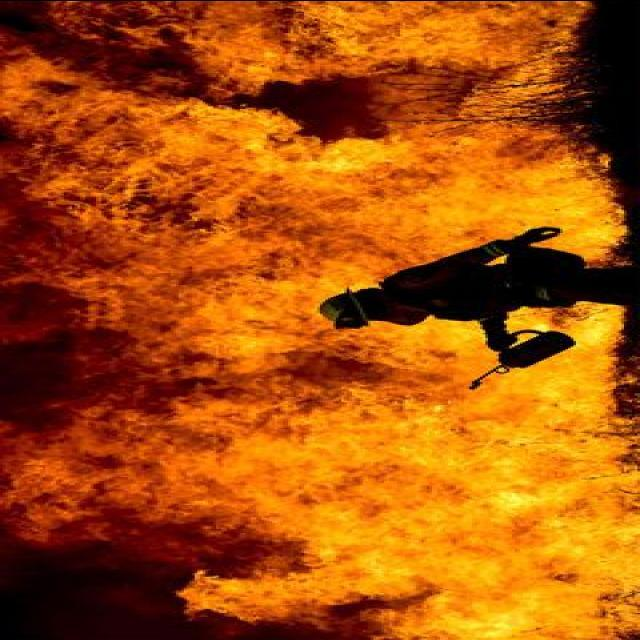Fire: (11, 0, 626, 632)
